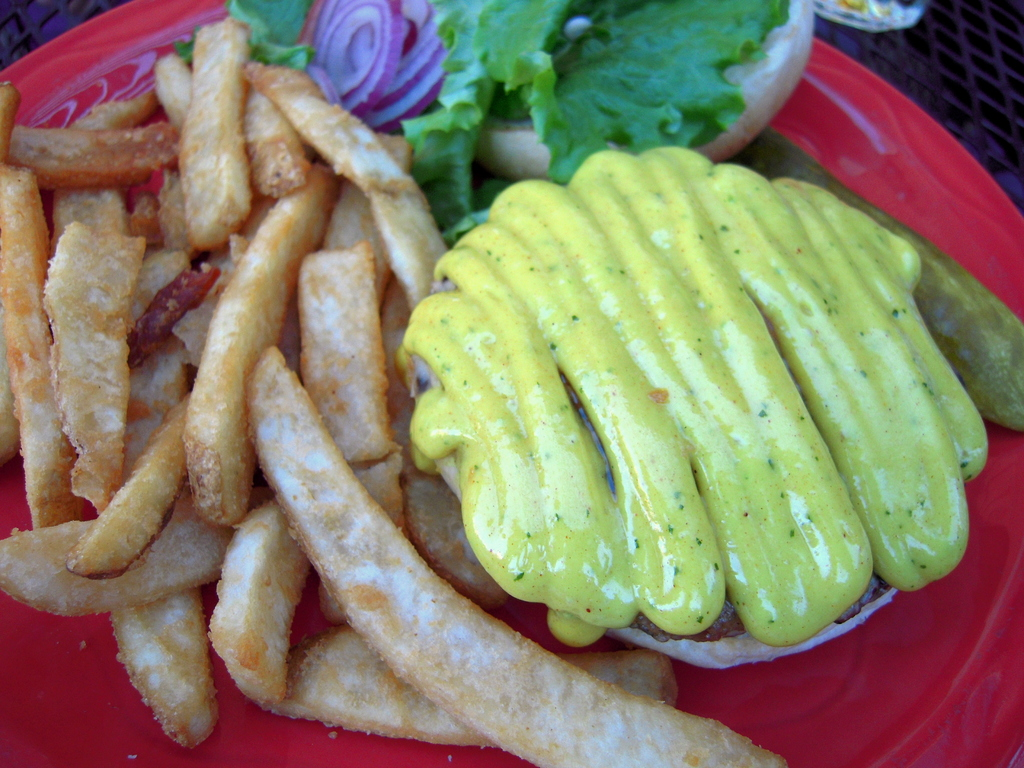French fries: (21, 0, 594, 746)
